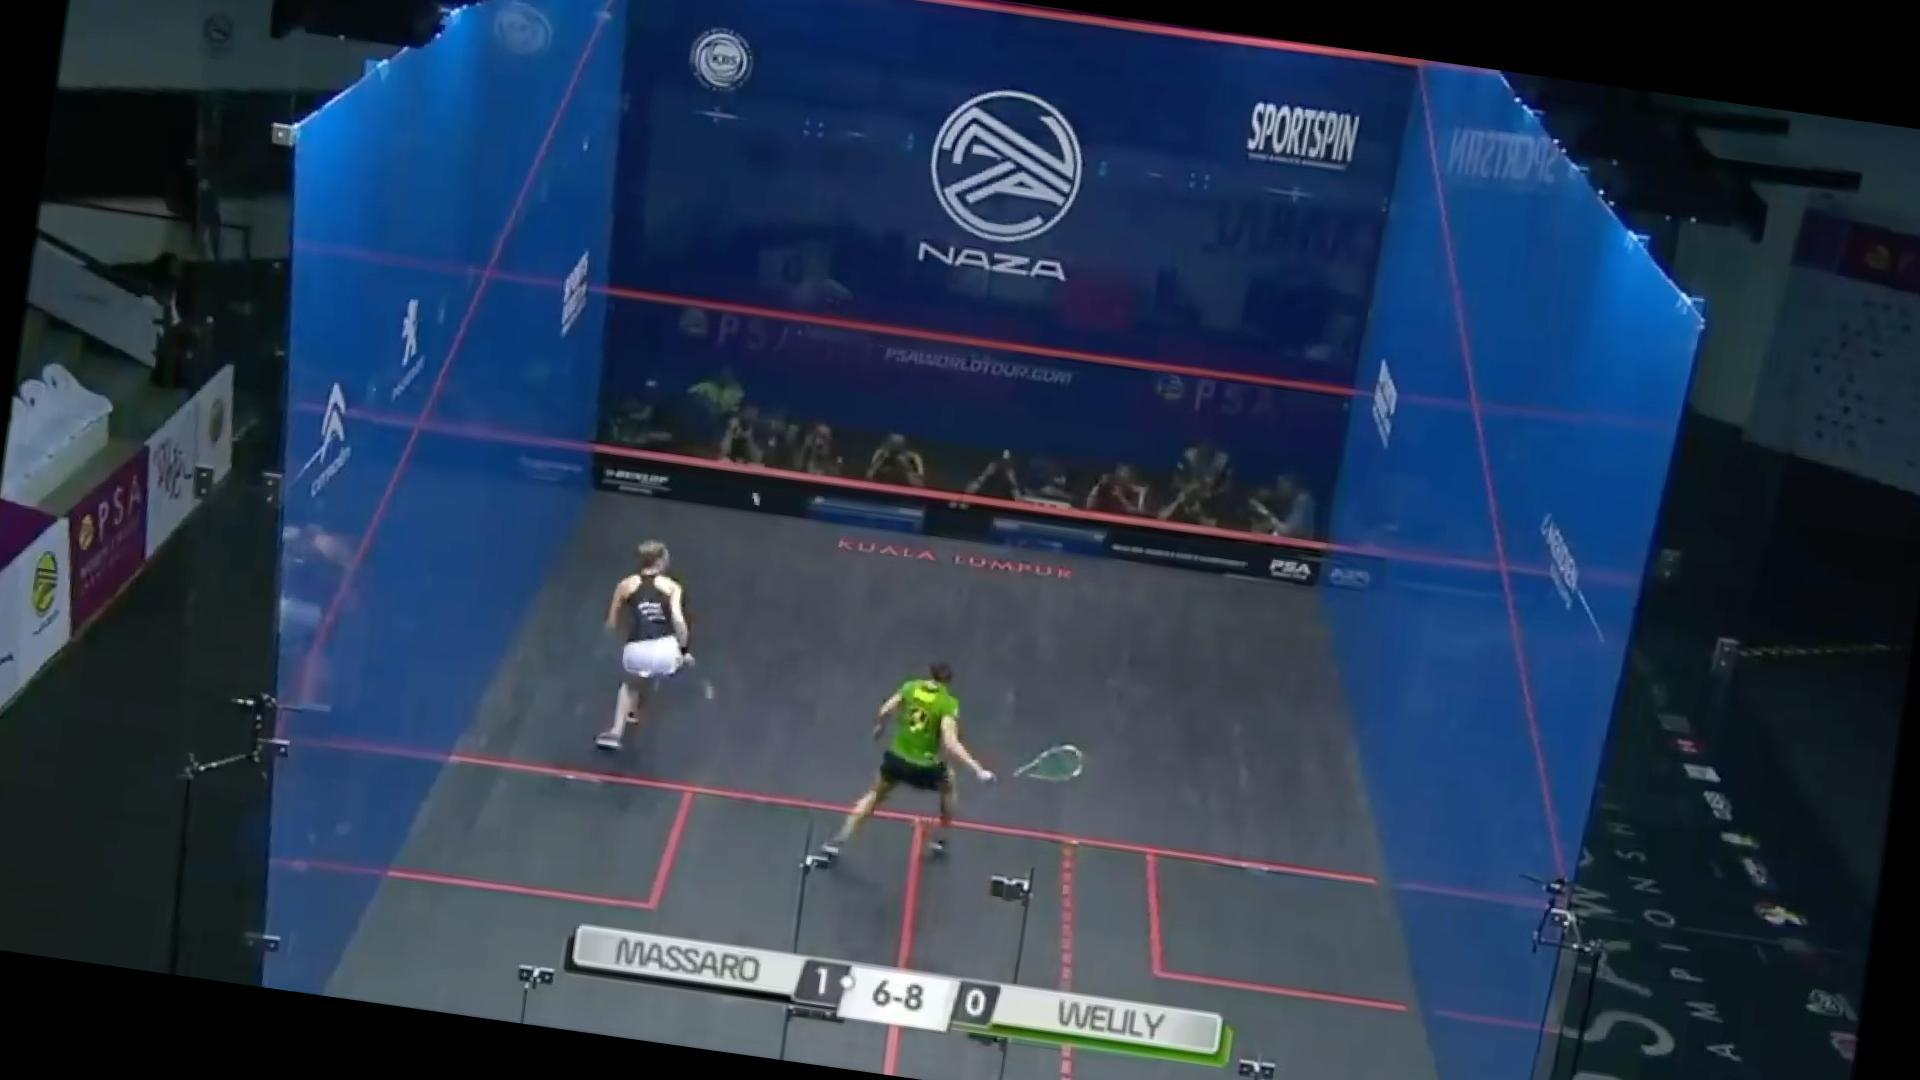Squash-Ball: (736, 479, 775, 521)
